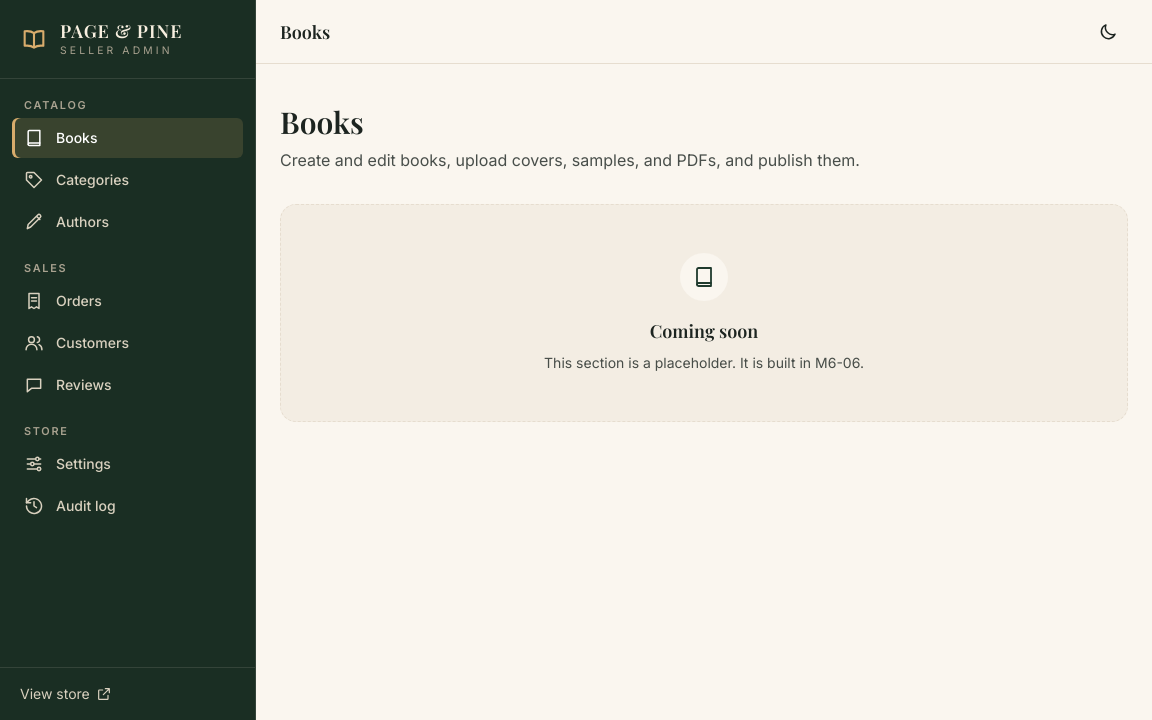
Test: admin sidebar › clicking "Orders" shows the matching page
Step 1. Click the link "Orders" → (63, 301), box [24, 291, 102, 311]
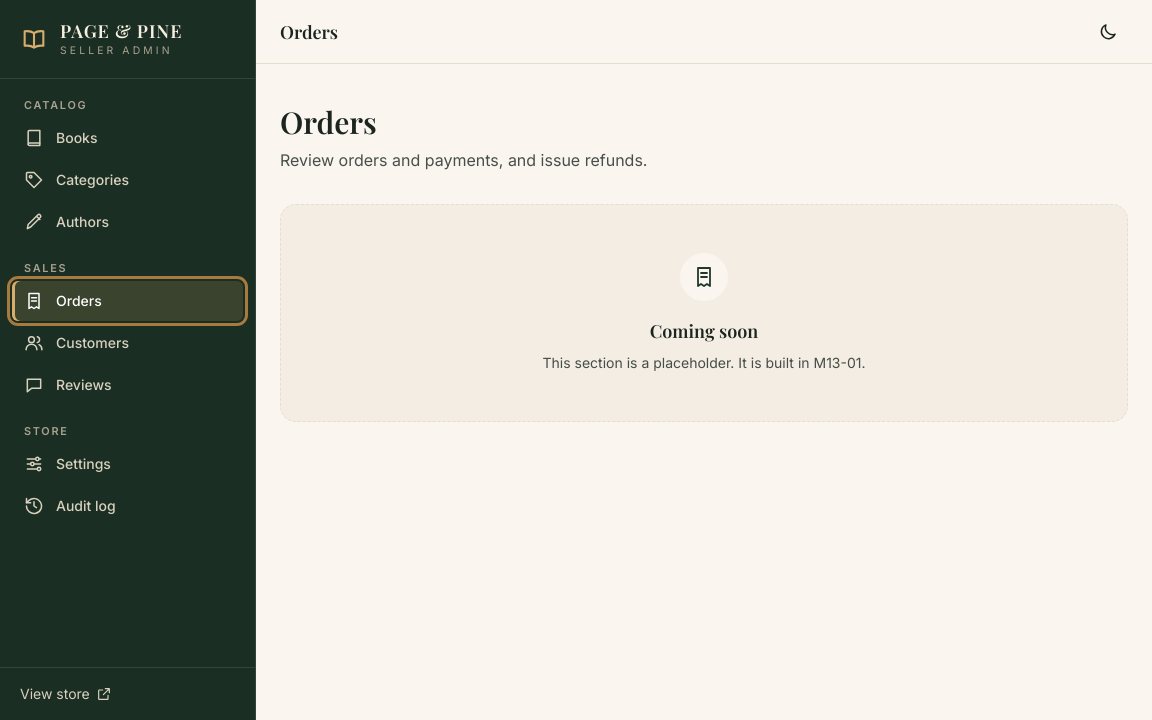
Result: the heading "Orders" is shown at [280, 102, 377, 142]
Result: the text "Orders" is shown at [280, 20, 338, 44]
Result: the text "Review orders and payments, and issue refunds." is shown at [280, 150, 648, 170]
